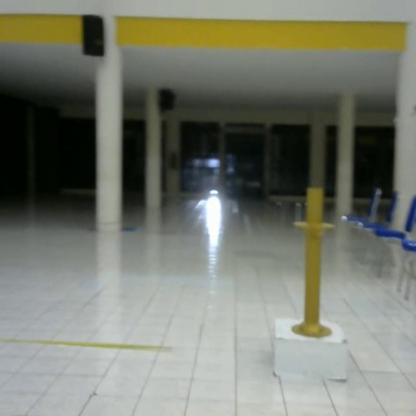pole: (286, 182, 341, 343)
